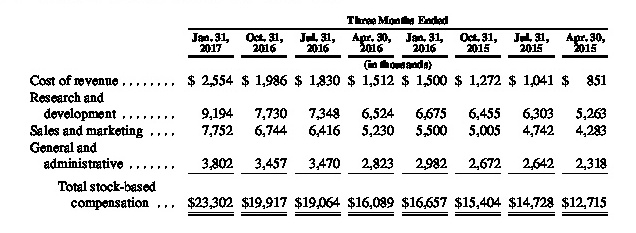table: (0, 0, 636, 233)
